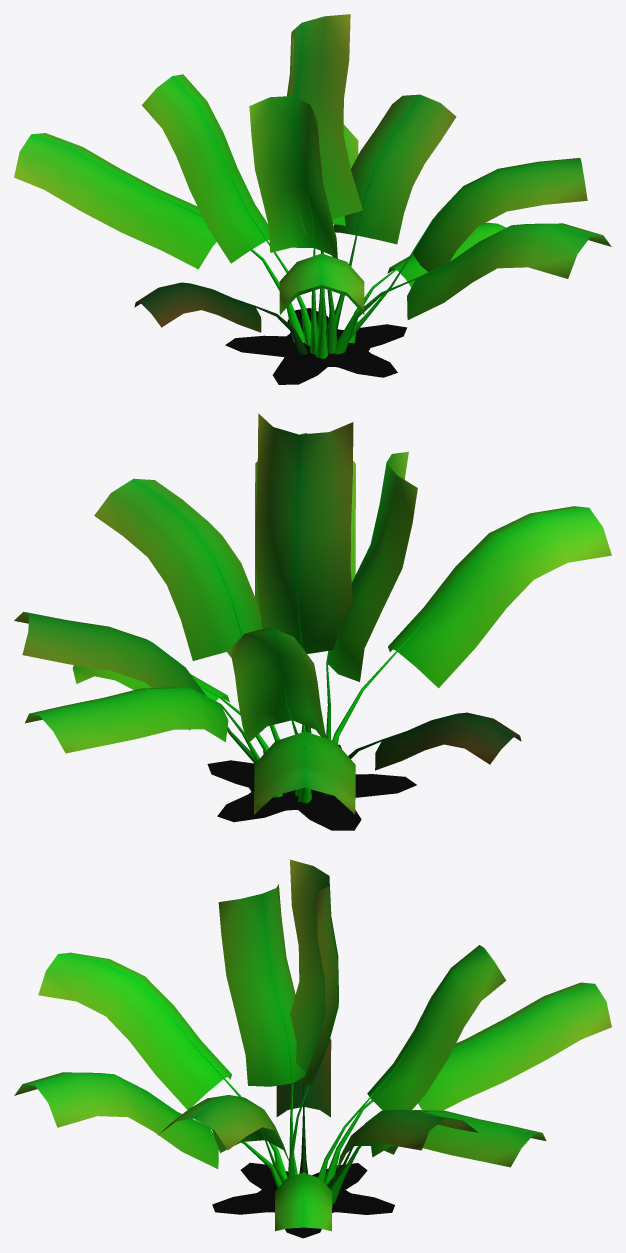
Rendered from Fern 3.fbx.
The picture shows the model from 3 angles, top to bottom: view 1: azimuth 30°, elevation 25°; view 2: azimuth 150°, elevation 25°; view 3: azimuth 270°, elevation 25°; orthographic projection. The views are drawn at different scales.
Parts seen in each view (by area): view 1: _0.002; view 2: _0.002; view 3: _0.002.
Part boxes in pixels (bbox=[...]): _0.002: bbox=[14, 14, 611, 384]; _0.002: bbox=[14, 413, 611, 830]; _0.002: bbox=[14, 859, 611, 1238].
Size of the model in its own units: 3.17 by 2.46 by 1.9.
